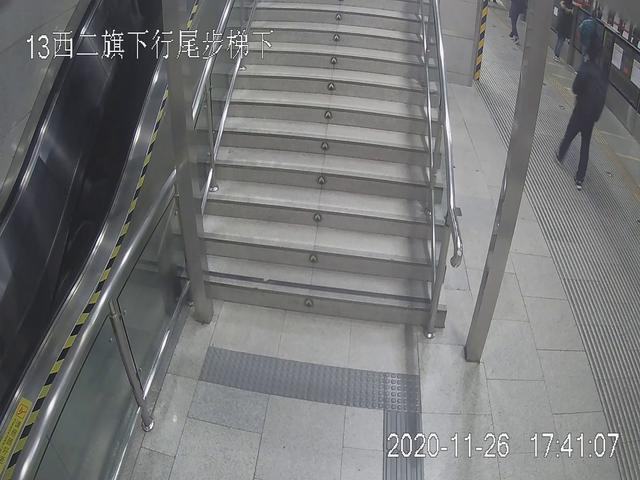person: (557, 43, 602, 187)
